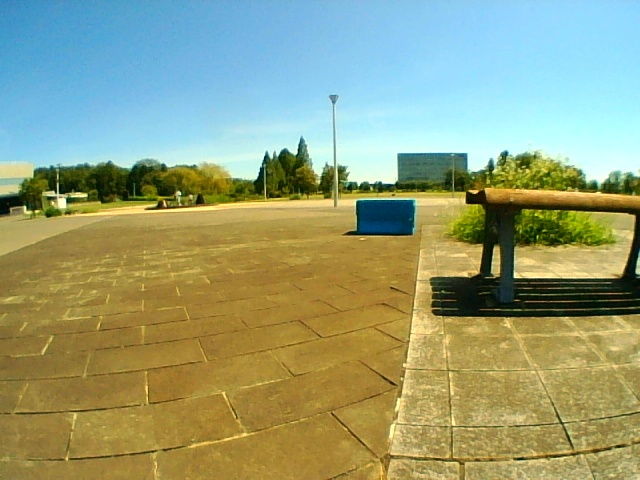blue_box: (357, 199, 414, 235)
